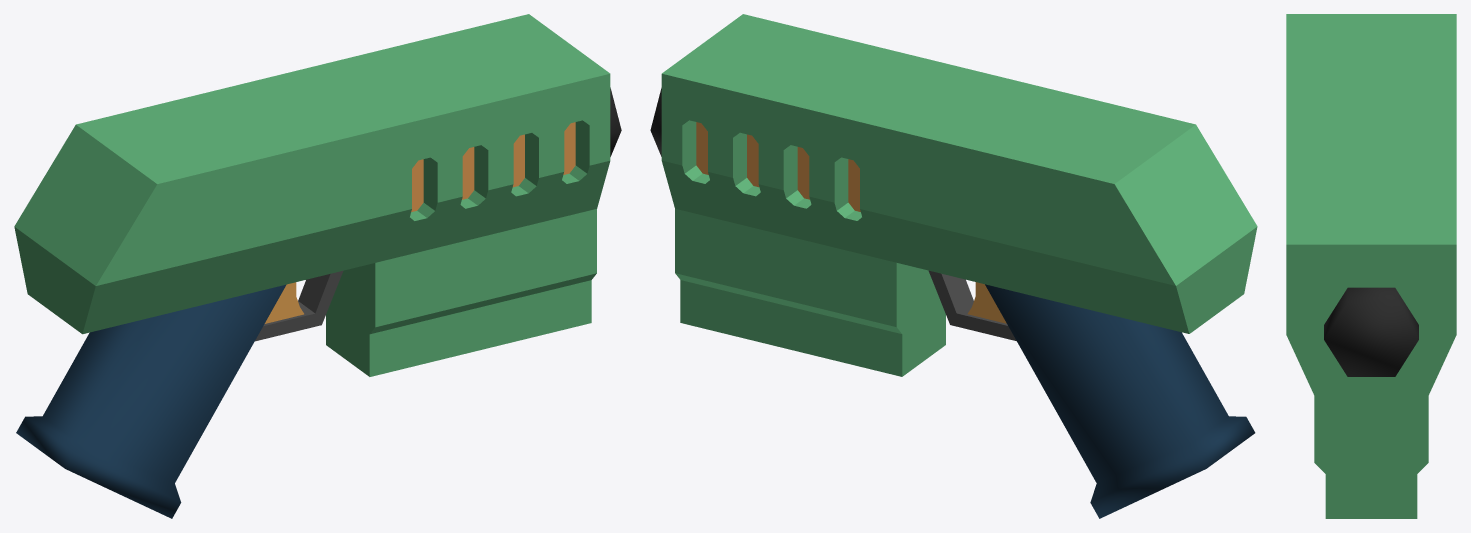
File: GunLowPoly.fbx
The picture shows the model from 3 angles, left to right: view 1: azimuth 30°, elevation 25°; view 2: azimuth 150°, elevation 25°; view 3: azimuth 270°, elevation 25°; orthographic projection. The views are drawn at different scales.
Parts seen in each view (by area): view 1: Cube.001, Cylinder.008, Plane.007, Plane.008; view 2: Cube.001, Cylinder.008, Plane.007, Plane.008; view 3: Cube.001, Cylinder.009.
Part boxes in pixels (<box>): Cube.001: <box>14,14,610,376</box>; Cylinder.008: <box>16,284,286,518</box>; Plane.007: <box>255,270,343,341</box>; Plane.008: <box>264,282,303,323</box>; Cube.001: <box>661,14,1257,376</box>; Cylinder.008: <box>985,284,1255,518</box>; Plane.007: <box>928,270,1016,340</box>; Plane.008: <box>967,282,1006,323</box>; Cube.001: <box>1286,14,1456,518</box>; Cylinder.009: <box>1324,287,1418,376</box>.
Size of the model in its own units: 87.12 by 52.85 by 22.04.
